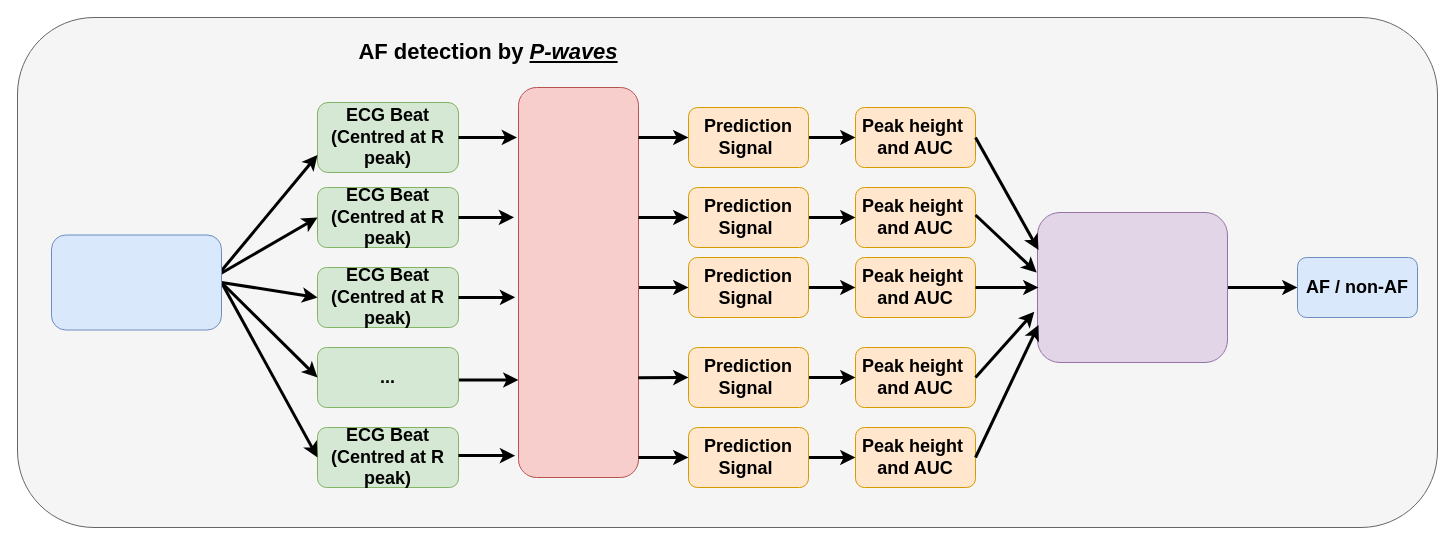
This 1455x545 diagram has some shape labels left out. Each missing label, with the box of its shape:
ECG Segment (10s or 30s): (50, 234, 222, 330)
P-wave Detection Model: (518, 86, 638, 478)
Statistical and Threshold-based ECG-Level features: (1036, 212, 1228, 362)
